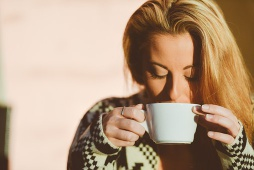female: (133, 31, 212, 119)
